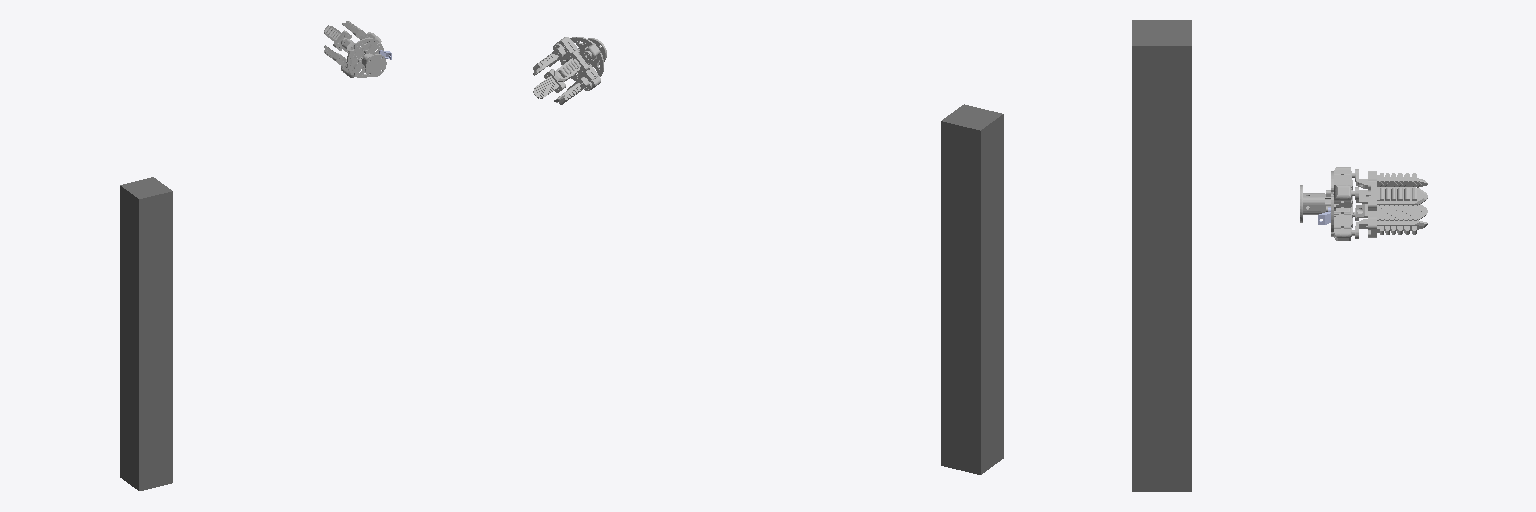
--- Facts derived from the render (not from the file) ---
The picture shows the robot from 3 angles, left to right: view 1: azimuth 30°, elevation 25°; view 2: azimuth 150°, elevation 25°; view 3: azimuth 270°, elevation 25°; orthographic projection.
Robot: ur5e_gripper — 33 links, 32 joints (14 revolute, 18 fixed); root link world; default pose: every joint at zero.
Visible links, largest first — view 1: mount, gripper_base_link; view 2: mount, gripper_base_link; view 3: mount, gripper_base_link, gripper_finger_3_link, gripper_finger_1_link, gripper_finger_2_link, gripper_finger_4_link.
Boxes of the visible links, bbox=[...] form: mount: bbox=[120, 177, 172, 490]; gripper_base_link: bbox=[342, 33, 386, 77]; mount: bbox=[941, 104, 1003, 474]; gripper_base_link: bbox=[556, 37, 606, 89]; mount: bbox=[1132, 20, 1191, 491]; gripper_base_link: bbox=[1300, 167, 1352, 240]; gripper_finger_3_link: bbox=[1377, 187, 1427, 205]; gripper_finger_1_link: bbox=[1377, 204, 1427, 220]; gripper_finger_2_link: bbox=[1377, 220, 1427, 234]; gripper_finger_4_link: bbox=[1377, 173, 1427, 187].
Bounding box of the posed robot: 0.9322 × 0.4977 × 0.9478 m (x, y, z).
10 mesh visuals loaded from 18 distinct referenced files (10 binary STL); not drawn: 8 (reference not matched to a file when rendering).

URDF robot description (ur5e_gripper):
<?xml version="1.0" ?>
<!-- =================================================================================== -->
<!-- |    This document was autogenerated by xacro from [local-path]/RoboSoft2023arm_ws/src/robotarm_description/urdf/ur5e_softgripper.urdf.xacro | -->
<!-- |    EDITING THIS FILE BY HAND IS NOT RECOMMENDED                                 | -->
<!-- =================================================================================== -->
<robot name="ur5e_gripper">
    <gazebo reference="mount">
        <mu1>0.2</mu1>
        <mu2>0.2</mu2>
        <material>Gazebo/Orange</material>
        <plugin name="gazebo_ros_control">
            <robotNamespace>/</robotNamespace>
        </plugin>
    </gazebo>
    <gazebo reference="gripper_base_link">
        <mu1>0.9</mu1>
        <mu2>0.9</mu2>
        <material>Gazebo/FlatBlack</material>
    </gazebo>
    <gazebo reference="gripper_camera_link">
        <mu1>0.9</mu1>
        <mu2>0.9</mu2>
        <material>Gazebo/FlatBlack</material>
    </gazebo>
    <gazebo reference="gripper_servo_1_joint">
        <mu1>0.9</mu1>
        <mu2>0.9</mu2>
        <material>Gazebo/Green</material>
    </gazebo>
    <gazebo reference="gripper_servo_2_joint">
        <mu1>0.9</mu1>
        <mu2>0.9</mu2>
        <material>Gazebo/Green</material>
    </gazebo>
    <gazebo reference="gripper_servo_3_joint">
        <mu1>0.9</mu1>
        <mu2>0.9</mu2>
        <material>Gazebo/Green</material>
    </gazebo>
    <gazebo reference="gripper_servo_4_joint">
        <mu1>0.9</mu1>
        <mu2>0.9</mu2>
        <material>Gazebo/Green</material>
    </gazebo>
    <material name="Gray">
        <color rgba="0.5 0.5 0.5 0" />
    </material>
    <material name="FlatBlack">
        <color rgba="0 0 0 1" />
    </material>
    <material name="Green">
        <color rgba="0.286274509803922 0.662745098039216 0.329411764705882 1" />
    </material>
    <link name="world" />
    <link name="mount">
        <inertial>
            <origin rpy="0 0 0" xyz="0 0 0.415" />
            <mass value="20" />
            <inertia ixx="200" ixy="200" ixz="200" iyy="200" iyz="200" izz="200" />
        </inertial>
        <visual>
            <origin rpy="0 0 0" xyz="0 0 0.415" />
            <geometry>
                <box size="0.1 0.1 0.83" />
            </geometry>
            <material name="Gray" />
        </visual>
        <collision>
            <origin rpy="0 0 0" xyz="0 0 0.415" />
            <geometry>
                <box size="0.1 0.1 0.83" />
            </geometry>
        </collision>
    </link>
    <joint name="world_joint" type="fixed">
        <parent link="world" />
        <child link="mount" />
        <origin rpy="0 0 0" xyz="0 0 0" />
    </joint>
    <!--
    Base UR robot series xacro macro.

    NOTE: this is NOT a URDF. It cannot directly be loaded by consumers
    expecting a flattened '.urdf' file. See the top-level '.xacro' for that
    (but note: that .xacro must still be processed by the xacro command).

    For use in '.launch' files: use one of the 'load_urX.launch' convenience
    launch files.

    This file models the base kinematic chain of a UR robot, which then gets
    parameterised by various configuration files to convert it into a UR3(e),
    UR5(e), UR10(e) or UR16e.

    NOTE: the default kinematic parameters (ie: link lengths, frame locations,
    offets, etc) do not correspond to any particular robot. They are defaults
    only. There WILL be non-zero offsets between the Forward Kinematics results
    in TF (ie: robot_state_publisher) and the values reported by the Teach
    Pendant.

    For accurate (and robot-specific) transforms, the 'kinematics_parameters_file'
    parameter MUST point to a .yaml file containing the appropriate values for
    the targetted robot.

    If using the UniversalRobots/Universal_Robots_ROS_Driver, follow the steps
    described in the readme of that repository to extract the kinematic
    calibration from the controller and generate the required .yaml file.

    Main author of the migration to yaml configs: Ludovic Delval.

    Contributors to previous versions (in no particular order):

     - Felix Messmer
     - Kelsey Hawkins
     - Wim Meeussen
     - Shaun Edwards
     - Nadia Hammoudeh Garcia
     - Dave Hershberger
     - G. vd. Hoorn
     - Philip Long
     - Dave Coleman
     - Miguel Prada
     - Mathias Luedtke
     - Marcel Schnirring
     - Felix von Drigalski
     - Felix Exner
     - Jimmy Da Silva
     - Ajit Krisshna N L
     - Muhammad Asif Rana
  -->
    <!--
    NOTE: the macro defined in this file is NOT part of the public API of this
          package. Users CANNOT rely on this file being available, or stored in
          this location. Nor can they rely on the existence of the macro.
  -->
    <transmission name="shoulder_pan_trans">
        <type>transmission_interface/SimpleTransmission</type>
        <joint name="shoulder_pan_joint">
            <hardwareInterface>hardware_interface/PositionJointInterface</hardwareInterface>
        </joint>
        <actuator name="shoulder_pan_motor">
            <mechanicalReduction>1</mechanicalReduction>
            <hardwareInterface>hardware_interface/PositionJointInterface</hardwareInterface>
        </actuator>
    </transmission>
    <transmission name="shoulder_lift_trans">
        <type>transmission_interface/SimpleTransmission</type>
        <joint name="shoulder_lift_joint">
            <hardwareInterface>hardware_interface/PositionJointInterface</hardwareInterface>
        </joint>
        <actuator name="shoulder_lift_motor">
            <mechanicalReduction>1</mechanicalReduction>
            <hardwareInterface>hardware_interface/PositionJointInterface</hardwareInterface>
        </actuator>
    </transmission>
    <transmission name="elbow_trans">
        <type>transmission_interface/SimpleTransmission</type>
        <joint name="elbow_joint">
            <hardwareInterface>hardware_interface/PositionJointInterface</hardwareInterface>
        </joint>
        <actuator name="elbow_motor">
            <mechanicalReduction>1</mechanicalReduction>
            <hardwareInterface>hardware_interface/PositionJointInterface</hardwareInterface>
        </actuator>
    </transmission>
    <transmission name="wrist_1_trans">
        <type>transmission_interface/SimpleTransmission</type>
        <joint name="wrist_1_joint">
            <hardwareInterface>hardware_interface/PositionJointInterface</hardwareInterface>
        </joint>
        <actuator name="wrist_1_motor">
            <mechanicalReduction>1</mechanicalReduction>
            <hardwareInterface>hardware_interface/PositionJointInterface</hardwareInterface>
        </actuator>
    </transmission>
    <transmission name="wrist_2_trans">
        <type>transmission_interface/SimpleTransmission</type>
        <joint name="wrist_2_joint">
            <hardwareInterface>hardware_interface/PositionJointInterface</hardwareInterface>
        </joint>
        <actuator name="wrist_2_motor">
            <mechanicalReduction>1</mechanicalReduction>
            <hardwareInterface>hardware_interface/PositionJointInterface</hardwareInterface>
        </actuator>
    </transmission>
    <transmission name="wrist_3_trans">
        <type>transmission_interface/SimpleTransmission</type>
        <joint name="wrist_3_joint">
            <hardwareInterface>hardware_interface/PositionJointInterface</hardwareInterface>
        </joint>
        <actuator name="wrist_3_motor">
            <mechanicalReduction>1</mechanicalReduction>
            <hardwareInterface>hardware_interface/PositionJointInterface</hardwareInterface>
        </actuator>
    </transmission>
    <!-- links: main serial chain -->
    <link name="base_link" />
    <link name="base_link_inertia">
        <visual>
            <origin rpy="0 0 3.141592653589793" xyz="0 0 0" />
            <geometry>
                <mesh filename="package://ur_description/meshes/ur5e/visual/base.dae" />
            </geometry>
            <material name="LightGrey">
                <color rgba="0.7 0.7 0.7 1.0" />
            </material>
        </visual>
        <collision>
            <origin rpy="0 0 3.141592653589793" xyz="0 0 0" />
            <geometry>
                <mesh filename="package://ur_description/meshes/ur5e/collision/base.stl" />
            </geometry>
        </collision>
        <inertial>
            <mass value="4.0" />
            <origin rpy="0 0 0" xyz="0 0 0" />
            <inertia ixx="0.00443333156" ixy="0.0" ixz="0.0" iyy="0.00443333156" iyz="0.0" izz="0.0072" />
        </inertial>
    </link>
    <link name="shoulder_link">
        <visual>
            <origin rpy="0 0 3.141592653589793" xyz="0 0 0" />
            <geometry>
                <mesh filename="package://ur_description/meshes/ur5e/visual/shoulder.dae" />
            </geometry>
            <material name="LightGrey">
                <color rgba="0.7 0.7 0.7 1.0" />
            </material>
        </visual>
        <collision>
            <origin rpy="0 0 3.141592653589793" xyz="0 0 0" />
            <geometry>
                <mesh filename="package://ur_description/meshes/ur5e/collision/shoulder.stl" />
            </geometry>
        </collision>
        <inertial>
            <mass value="3.7" />
            <origin rpy="0 0 0" xyz="0 0 0" />
            <inertia ixx="0.010267495893" ixy="0.0" ixz="0.0" iyy="0.010267495893" iyz="0.0" izz="0.00666" />
        </inertial>
    </link>
    <link name="upper_arm_link">
        <visual>
            <origin rpy="1.5707963267948966 0 -1.5707963267948966" xyz="0 0 0.138" />
            <geometry>
                <mesh filename="package://ur_description/meshes/ur5e/visual/upperarm.dae" />
            </geometry>
            <material name="LightGrey">
                <color rgba="0.7 0.7 0.7 1.0" />
            </material>
        </visual>
        <collision>
            <origin rpy="1.5707963267948966 0 -1.5707963267948966" xyz="0 0 0.138" />
            <geometry>
                <mesh filename="package://ur_description/meshes/ur5e/collision/upperarm.stl" />
            </geometry>
        </collision>
        <inertial>
            <mass value="8.393" />
            <origin rpy="0 1.5707963267948966 0" xyz="-0.2125 0.0 0.138" />
            <inertia ixx="0.1338857818623325" ixy="0.0" ixz="0.0" iyy="0.1338857818623325" iyz="0.0" izz="0.0151074" />
        </inertial>
    </link>
    <link name="forearm_link">
        <visual>
            <origin rpy="1.5707963267948966 0 -1.5707963267948966" xyz="0 0 0.007" />
            <geometry>
                <mesh filename="package://ur_description/meshes/ur5e/visual/forearm.dae" />
            </geometry>
            <material name="LightGrey">
                <color rgba="0.7 0.7 0.7 1.0" />
            </material>
        </visual>
        <collision>
            <origin rpy="1.5707963267948966 0 -1.5707963267948966" xyz="0 0 0.007" />
            <geometry>
                <mesh filename="package://ur_description/meshes/ur5e/collision/forearm.stl" />
            </geometry>
        </collision>
        <inertial>
            <mass value="2.275" />
            <origin rpy="0 1.5707963267948966 0" xyz="-0.1961 0.0 0.007" />
            <inertia ixx="0.031209355099586295" ixy="0.0" ixz="0.0" iyy="0.031209355099586295" iyz="0.0" izz="0.004095" />
        </inertial>
    </link>
    <link name="wrist_1_link">
        <visual>
            <!-- TODO: Move this to a parameter -->
            <origin rpy="1.5707963267948966 0 0" xyz="0 0 -0.127" />
            <geometry>
                <mesh filename="package://ur_description/meshes/ur5e/visual/wrist1.dae" />
            </geometry>
            <material name="LightGrey">
                <color rgba="0.7 0.7 0.7 1.0" />
            </material>
        </visual>
        <collision>
            <origin rpy="1.5707963267948966 0 0" xyz="0 0 -0.127" />
            <geometry>
                <mesh filename="package://ur_description/meshes/ur5e/collision/wrist1.stl" />
            </geometry>
        </collision>
        <inertial>
            <mass value="1.219" />
            <origin rpy="0 0 0" xyz="0 0 0" />
            <inertia ixx="0.0025598989760400002" ixy="0.0" ixz="0.0" iyy="0.0025598989760400002" iyz="0.0" izz="0.0021942" />
        </inertial>
    </link>
    <link name="wrist_2_link">
        <visual>
            <origin rpy="0 0 0" xyz="0 0 -0.0997" />
            <geometry>
                <mesh filename="package://ur_description/meshes/ur5e/visual/wrist2.dae" />
            </geometry>
            <material name="LightGrey">
                <color rgba="0.7 0.7 0.7 1.0" />
            </material>
        </visual>
        <collision>
            <origin rpy="0 0 0" xyz="0 0 -0.0997" />
            <geometry>
                <mesh filename="package://ur_description/meshes/ur5e/collision/wrist2.stl" />
            </geometry>
        </collision>
        <inertial>
            <mass value="1.219" />
            <origin rpy="0 0 0" xyz="0 0 0" />
            <inertia ixx="0.0025598989760400002" ixy="0.0" ixz="0.0" iyy="0.0025598989760400002" iyz="0.0" izz="0.0021942" />
        </inertial>
    </link>
    <link name="wrist_3_link">
        <visual>
            <origin rpy="1.5707963267948966 0 0" xyz="0 0 -0.0989" />
            <geometry>
                <mesh filename="package://ur_description/meshes/ur5e/visual/wrist3.dae" />
            </geometry>
            <material name="LightGrey">
                <color rgba="0.7 0.7 0.7 1.0" />
            </material>
        </visual>
        <collision>
            <origin rpy="1.5707963267948966 0 0" xyz="0 0 -0.0989" />
            <geometry>
                <mesh filename="package://ur_description/meshes/ur5e/collision/wrist3.stl" />
            </geometry>
        </collision>
        <inertial>
            <mass value="0.1879" />
            <origin rpy="0 0 0" xyz="0.0 0.0 -0.0229" />
            <inertia ixx="9.890410052167731e-05" ixy="0.0" ixz="0.0" iyy="9.890410052167731e-05" iyz="0.0" izz="0.0001321171875" />
        </inertial>
    </link>
    <!-- joints: main serial chain -->
    <joint name="base_link-base_link_inertia" type="fixed">
        <parent link="base_link" />
        <child link="base_link_inertia" />
        <!-- 'base_link' is REP-103 aligned (so X+ forward), while the internal
           frames of the robot/controller have X+ pointing backwards.
           Use the joint between 'base_link' and 'base_link_inertia' (a dummy
           link/frame) to introduce the necessary rotation over Z (of pi rad).
      -->
        <origin rpy="0 0 3.141592653589793" xyz="0 0 0" />
    </joint>
    <joint name="shoulder_pan_joint" type="revolute">
        <parent link="base_link_inertia" />
        <child link="shoulder_link" />
        <origin rpy="0 0 0" xyz="0 0 0.1625" />
        <axis xyz="0 0 1" />
        <limit effort="150.0" lower="-6.283185307179586" upper="6.283185307179586" velocity="3.141592653589793" />
        <dynamics damping="0" friction="0" />
    </joint>
    <joint name="shoulder_lift_joint" type="revolute">
        <parent link="shoulder_link" />
        <child link="upper_arm_link" />
        <origin rpy="1.570796327 0 0" xyz="0 0 0" />
        <axis xyz="0 0 1" />
        <limit effort="150.0" lower="-6.283185307179586" upper="6.283185307179586" velocity="3.141592653589793" />
        <dynamics damping="0" friction="0" />
    </joint>
    <joint name="elbow_joint" type="revolute">
        <parent link="upper_arm_link" />
        <child link="forearm_link" />
        <origin rpy="0 0 0" xyz="-0.425 0 0" />
        <axis xyz="0 0 1" />
        <limit effort="150.0" lower="-3.141592653589793" upper="3.141592653589793" velocity="3.141592653589793" />
        <dynamics damping="0" friction="0" />
    </joint>
    <joint name="wrist_1_joint" type="revolute">
        <parent link="forearm_link" />
        <child link="wrist_1_link" />
        <origin rpy="0 0 0" xyz="-0.3922 0 0.1333" />
        <axis xyz="0 0 1" />
        <limit effort="28.0" lower="-6.283185307179586" upper="6.283185307179586" velocity="3.141592653589793" />
        <dynamics damping="0" friction="0" />
    </joint>
    <joint name="wrist_2_joint" type="revolute">
        <parent link="wrist_1_link" />
        <child link="wrist_2_link" />
        <origin rpy="1.570796327 0 0" xyz="0 -0.0997 -2.044881182297852e-11" />
        <axis xyz="0 0 1" />
        <limit effort="28.0" lower="-6.283185307179586" upper="6.283185307179586" velocity="3.141592653589793" />
        <dynamics damping="0" friction="0" />
    </joint>
    <joint name="wrist_3_joint" type="revolute">
        <parent link="wrist_2_link" />
        <child link="wrist_3_link" />
        <origin rpy="1.570796326589793 3.141592653589793 3.141592653589793" xyz="0 0.0996 -2.042830148012698e-11" />
        <axis xyz="0 0 1" />
        <limit effort="28.0" lower="-6.283185307179586" upper="6.283185307179586" velocity="3.141592653589793" />
        <dynamics damping="0" friction="0" />
    </joint>
    <!-- ROS-Industrial 'base' frame: base_link to UR 'Base' Coordinates transform -->
    <link name="base" />
    <joint name="base_link-base_fixed_joint" type="fixed">
        <!-- Note the rotation over Z of pi radians: as base_link is REP-103
           aligned (ie: has X+ forward, Y+ left and Z+ up), this is needed
           to correctly align 'base' with the 'Base' coordinate system of
           the UR controller.
      -->
        <origin rpy="0 0 3.141592653589793" xyz="0 0 0" />
        <parent link="base_link" />
        <child link="base" />
    </joint>
    <!-- ROS-Industrial 'flange' frame: attachment point for EEF models -->
    <link name="flange" />
    <joint name="wrist_3-flange" type="fixed">
        <parent link="wrist_3_link" />
        <child link="flange" />
        <origin rpy="0 -1.5707963267948966 -1.5707963267948966" xyz="0 0 0" />
    </joint>
    <!-- ROS-Industrial 'tool0' frame: all-zeros tool frame -->
    <link name="tool0" />
    <joint name="flange-tool0" type="fixed">
        <!-- default toolframe: X+ left, Y+ up, Z+ front -->
        <origin rpy="1.5707963267948966 0 1.5707963267948966" xyz="0 0 0" />
        <parent link="flange" />
        <child link="tool0" />
    </joint>
    <transmission name="finger_1_trans">
        <type>transmission_interface/SimpleTransmission</type>
        <joint name="gripper_finger_1_joint">
            <hardwareInterface>hardware_interface/PositionJointInterface</hardwareInterface>
        </joint>
        <actuator name="finger_1_motor">
            <mechanicalReduction>1</mechanicalReduction>
            <hardwareInterface>hardware_interface/EffortJointInterface</hardwareInterface>
        </actuator>
    </transmission>
    <transmission name="finger_2_trans">
        <type>transmission_interface/SimpleTransmission</type>
        <joint name="gripper_finger_2_joint">
            <hardwareInterface>hardware_interface/PositionJointInterface</hardwareInterface>
        </joint>
        <actuator name="finger_2_motor">
            <mechanicalReduction>1</mechanicalReduction>
            <hardwareInterface>hardware_interface/EffortJointInterface</hardwareInterface>
        </actuator>
    </transmission>
    <transmission name="finger_3_trans">
        <type>transmission_interface/SimpleTransmission</type>
        <joint name="gripper_finger_3_joint">
            <hardwareInterface>hardware_interface/PositionJointInterface</hardwareInterface>
        </joint>
        <actuator name="finger_3_motor">
            <mechanicalReduction>1</mechanicalReduction>
            <hardwareInterface>hardware_interface/EffortJointInterface</hardwareInterface>
        </actuator>
    </transmission>
    <transmission name="finger_4_trans">
        <type>transmission_interface/SimpleTransmission</type>
        <joint name="gripper_finger_4_joint">
            <hardwareInterface>hardware_interface/PositionJointInterface</hardwareInterface>
        </joint>
        <actuator name="finger_4_motor">
            <mechanicalReduction>1</mechanicalReduction>
            <hardwareInterface>hardware_interface/EffortJointInterface</hardwareInterface>
        </actuator>
    </transmission>
    <transmission name="servo_1_trans">
        <type>transmission_interface/SimpleTransmission</type>
        <joint name="gripper_servo_1_joint">
            <hardwareInterface>hardware_interface/PositionJointInterface</hardwareInterface>
        </joint>
        <actuator name="servo_1_motor">
            <mechanicalReduction>1</mechanicalReduction>
            <hardwareInterface>hardware_interface/EffortJointInterface</hardwareInterface>
        </actuator>
    </transmission>
    <transmission name="servo_2_trans">
        <type>transmission_interface/SimpleTransmission</type>
        <joint name="gripper_servo_2_joint">
            <hardwareInterface>hardware_interface/PositionJointInterface</hardwareInterface>
        </joint>
        <actuator name="servo_2_motor">
            <mechanicalReduction>1</mechanicalReduction>
            <hardwareInterface>hardware_interface/EffortJointInterface</hardwareInterface>
        </actuator>
    </transmission>
    <transmission name="servo_3_trans">
        <type>transmission_interface/SimpleTransmission</type>
        <joint name="gripper_servo_3_joint">
            <hardwareInterface>hardware_interface/PositionJointInterface</hardwareInterface>
        </joint>
        <actuator name="servo_3_motor">
            <mechanicalReduction>1</mechanicalReduction>
            <hardwareInterface>hardware_interface/EffortJointInterface</hardwareInterface>
        </actuator>
    </transmission>
    <transmission name="servo_4_trans">
        <type>transmission_interface/SimpleTransmission</type>
        <joint name="gripper_servo_4_joint">
            <hardwareInterface>hardware_interface/PositionJointInterface</hardwareInterface>
        </joint>
        <actuator name="servo_4_motor">
            <mechanicalReduction>1</mechanicalReduction>
            <hardwareInterface>hardware_interface/EffortJointInterface</hardwareInterface>
        </actuator>
    </transmission>
    <link name="gripper_base_link">
        <inertial>
            <origin rpy="0 0 0" xyz="-7.81929243576229E-11 1.42663880708938E-10 -0.059288971276487" />
            <mass value="0.229671038998237" />
            <inertia ixx="7.28849227242487E-05" ixy="-2.33088076706897E-09" ixz="-6.41425361232449E-15" iyy="7.28849227242487E-05" iyz="-2.61814273580661E-14" izz="9.68124786108097E-05" />
        </inertial>
        <visual>
            <origin rpy="0 0 0" xyz="0 0 0" />
            <geometry>
                <mesh filename="package://soft_gripper_v2/meshes/gripper_base_link.STL" />
            </geometry>
            <material name="">
                <color rgba="0.752941176470588 0.752941176470588 0.752941176470588 1" />
            </material>
        </visual>
        <collision>
            <origin rpy="0 0 0" xyz="0 0 0" />
            <geometry>
                <mesh filename="package://soft_gripper_v2/meshes/gripper_base_link.STL" />
            </geometry>
        </collision>
    </link>
    <link name="gripper_servo_1_link">
        <inertial>
            <origin rpy="0 0 0" xyz="0.00967240300472853 3.20435144965381E-06 -0.0274810442045975" />
            <mass value="0.0188211254499163" />
            <inertia ixx="4.14273316213884E-06" ixy="-3.31927276910217E-10" ixz="2.35698499176054E-07" iyy="1.66522474223198E-06" iyz="-2.13913665202975E-10" izz="4.32127182189738E-06" />
        </inertial>
        <visual>
            <origin rpy="0 0 0" xyz="0 0 0" />
            <geometry>
                <mesh filename="package://soft_gripper_v2/meshes/gripper_servo_1_link.STL" />
            </geometry>
            <material name="">
                <color rgba="0.752941176470588 0.752941176470588 0.752941176470588 1" />
            </material>
        </visual>
        <collision>
            <origin rpy="0 0 0" xyz="0 0 0" />
            <geometry>
                <mesh filename="package://soft_gripper_v2/meshes/gripper_servo_1_link.STL" />
            </geometry>
        </collision>
    </link>
    <joint name="gripper_servo_1_joint" type="revolute">
        <origin rpy="0 0 0.785398163397435" xyz="-0.0364159992311082 -0.0364159992311067 -0.08805" />
        <parent link="gripper_base_link" />
        <child link="gripper_servo_1_link" />
        <axis xyz="0 0 1" />
        <limit effort="0" lower="0" upper="0" velocity="0" />
    </joint>
    <link name="gripper_finger_1_link">
        <inertial>
            <origin rpy="0 0 0" xyz="0.00453251169208729 -0.000200000496332495 -0.0372287980137329" />
            <mass value="0.0223253175331126" />
            <inertia ixx="1.45473568126403E-05" ixy="4.2102213523924E-14" ixz="1.00874708036447E-08" iyy="1.31879304063723E-05" iyz="-4.95242595284031E-13" izz="1.66757991632934E-06" />
        </inertial>
        <visual>
            <origin rpy="0 0 0" xyz="0 0 0" />
            <geometry>
                <mesh filename="package://soft_gripper_v2/meshes/gripper_finger_1_link.STL" />
            </geometry>
            <material name="">
                <color rgba="0.752941176470588 0.752941176470588 0.752941176470588 1" />
            </material>
        </visual>
        <collision>
            <origin rpy="0 0 0" xyz="0 0 0" />
            <geometry>
                <mesh filename="package://soft_gripper_v2/meshes/gripper_finger_1_link.STL" />
            </geometry>
        </collision>
    </link>
    <joint name="gripper_finger_1_joint" type="revolute">
        <origin rpy="0 0 0" xyz="0.00630000000000014 0 -0.0388" />
        <parent link="gripper_servo_1_link" />
        <child link="gripper_finger_1_link" />
        <axis xyz="0 -1 0" />
        <limit effort="0" lower="0" upper="0" velocity="0" />
    </joint>
    <link name="gripper_servo_2_link">
        <inertial>
            <origin rpy="0 0 0" xyz="0.00967240300472846 3.20435144965381E-06 -0.0274810442045975" />
            <mass value="0.0188211254499163" />
            <inertia ixx="4.14273316213885E-06" ixy="-3.31927276911382E-10" ixz="2.35698499176054E-07" iyy="1.66522474223198E-06" iyz="-2.13913665204756E-10" izz="4.32127182189738E-06" />
        </inertial>
        <visual>
            <origin rpy="0 0 0" xyz="0 0 0" />
            <geometry>
                <mesh filename="package://soft_gripper_v2/meshes/gripper_servo_2_link.STL" />
            </geometry>
            <material name="">
                <color rgba="0.752941176470588 0.752941176470588 0.752941176470588 1" />
            </material>
        </visual>
        <collision>
            <origin rpy="0 0 0" xyz="0 0 0" />
            <geometry>
                <mesh filename="package://soft_gripper_v2/meshes/gripper_servo_2_link.STL" />
            </geometry>
        </collision>
    </link>
    <joint name="gripper_servo_2_joint" type="revolute">
        <origin rpy="0 0 2.35619449019233" xyz="0.0364159992311063 -0.0364159992311076 -0.08805" />
        <parent link="gripper_base_link" />
        <child link="gripper_servo_2_link" />
        <axis xyz="0 0 1" />
        <limit effort="0" lower="0" upper="0" velocity="0" />
    </joint>
    <link name="gripper_finger_2_link">
        <inertial>
            <origin rpy="0 0 0" xyz="0.00453251169208686 0.00019999950366744 -0.037228798013733" />
            <mass value="0.0223253175331126" />
            <inertia ixx="1.45473568126403E-05" ixy="4.21022126768911E-14" ixz="1.00874708034999E-08" iyy="1.31879304063723E-05" iyz="-4.95242597291067E-13" izz="1.66757991632934E-06" />
        </inertial>
        <visual>
            <origin rpy="0 0 0" xyz="0 0 0" />
            <geometry>
                <mesh filename="package://soft_gripper_v2/meshes/gripper_finger_2_link.STL" />
            </geometry>
            <material name="">
                <color rgba="0.752941176470588 0.752941176470588 0.752941176470588 1" />
            </material>
        </visual>
        <collision>
            <origin rpy="0 0 0" xyz="0 0 0" />
            <geometry>
                <mesh filename="package://soft_gripper_v2/meshes/gripper_finger_2_link.STL" />
            </geometry>
        </collision>
    </link>
    <joint name="gripper_finger_2_joint" type="revolute">
        <origin rpy="0 0 0" xyz="0.00629999999999999 0 -0.0388" />
        <parent link="gripper_servo_2_link" />
        <child link="gripper_finger_2_link" />
        <axis xyz="0 -1 0" />
        <limit effort="0" lower="0" upper="0" velocity="0" />
    </joint>
    <link name="gripper_servo_3_link">
        <inertial>
            <origin rpy="0 0 0" xyz="0.00967240300472846 3.20435144958442E-06 -0.0274810442045975" />
            <mass value="0.0188211254499163" />
            <inertia ixx="4.14273316213884E-06" ixy="-3.31927276911382E-10" ixz="2.35698499176054E-07" iyy="1.66522474223198E-06" iyz="-2.13913665206273E-10" izz="4.32127182189737E-06" />
        </inertial>
        <visual>
            <origin rpy="0 0 0" xyz="0 0 0" />
            <geometry>
                <mesh filename="package://soft_gripper_v2/meshes/gripper_servo_3_link.STL" />
            </geometry>
            <material name="">
                <color rgba="0.752941176470588 0.752941176470588 0.752941176470588 1" />
            </material>
        </visual>
        <collision>
            <origin rpy="0 0 0" xyz="0 0 0" />
            <geometry>
                <mesh filename="package://soft_gripper_v2/meshes/gripper_servo_3_link.STL" />
            </geometry>
        </collision>
    </link>
    <joint name="gripper_servo_3_joint" type="revolute">
        <origin rpy="0 0 -2.35619449019235" xyz="0.0364159992311069 0.036415999231107 -0.08805" />
        <parent link="gripper_base_link" />
        <child link="gripper_servo_3_link" />
        <axis xyz="0 0 -1" />
        <limit effort="0" lower="0" upper="0" velocity="0" />
    </joint>
    <link name="gripper_finger_3_link">
        <inertial>
            <origin rpy="0 0 0" xyz="0.00453251169208677 0.000199999503667447 -0.0372287980137329" />
            <mass value="0.0223253175331126" />
            <inertia ixx="1.45473568126403E-05" ixy="4.21022122533746E-14" ixz="1.00874708034703E-08" iyy="1.31879304063723E-05" iyz="-4.95242597341267E-13" izz="1.66757991632934E-06" />
        </inertial>
        <visual>
            <origin rpy="0 0 0" xyz="0 0 0" />
            <geometry>
                <mesh filename="package://soft_gripper_v2/meshes/gripper_finger_3_link.STL" />
            </geometry>
            <material name="">
                <color rgba="0.752941176470588 0.752941176470588 0.752941176470588 1" />
            </material>
        </visual>
        <collision>
            <origin rpy="0 0 0" xyz="0 0 0" />
            <geometry>
                <mesh filename="package://soft_gripper_v2/meshes/gripper_finger_3_link.STL" />
            </geometry>
        </collision>
    </link>
    <joint name="gripper_finger_3_joint" type="revolute">
        <origin rpy="0 0 0" xyz="0.00630000000000001 0 -0.0388" />
        <parent link="gripper_servo_3_link" />
        <child link="gripper_finger_3_link" />
        <axis xyz="0 -1 0" />
        <limit effort="0" lower="0" upper="0" velocity="0" />
    </joint>
    <link name="gripper_servo_4_link">
        <inertial>
            <origin rpy="0 0 0" xyz="0.00967240300472855 3.20435144963993E-06 -0.0274810442045975" />
            <mass value="0.0188211254499163" />
            <inertia ixx="4.14273316213884E-06" ixy="-3.31927276911329E-10" ixz="2.35698499176054E-07" iyy="1.66522474223198E-06" iyz="-2.1391366520675E-10" izz="4.32127182189738E-06" />
        </inertial>
        <visual>
            <origin rpy="0 0 0" xyz="0 0 0" />
            <geometry>
                <mesh filename="package://soft_gripper_v2/meshes/gripper_servo_4_link.STL" />
            </geometry>
            <material name="">
                <color rgba="0.752941176470588 0.752941176470588 0.752941176470588 1" />
            </material>
        </visual>
        <collision>
            <origin rpy="0 0 0" xyz="0 0 0" />
            <geometry>
                <mesh filename="package://soft_gripper_v2/meshes/gripper_servo_4_link.STL" />
            </geometry>
        </collision>
    </link>
    <joint name="gripper_servo_4_joint" type="revolute">
        <origin rpy="0 0 -0.785398163397466" xyz="-0.0364159992311072 0.0364159992311078 -0.08805" />
        <parent link="gripper_base_link" />
        <child link="gripper_servo_4_link" />
        <axis xyz="0 0 1" />
        <limit effort="0" lower="0" upper="0" velocity="0" />
    </joint>
    <link name="gripper_finger_4_link">
        <inertial>
            <origin rpy="0 0 0" xyz="0.00453251169208679 0.000199999503667489 -0.037228798013733" />
            <mass value="0.0223253175331126" />
            <inertia ixx="1.45473568126403E-05" ixy="4.21022105593087E-14" ixz="1.00874708034764E-08" iyy="1.31879304063723E-05" iyz="-4.9524259664267E-13" izz="1.66757991632933E-06" />
        </inertial>
        <visual>
            <origin rpy="0 0 0" xyz="0 0 0" />
            <geometry>
                <mesh filename="package://soft_gripper_v2/meshes/gripper_finger_4_link.STL" />
            </geometry>
            <material name="">
                <color rgba="0.752941176470588 0.752941176470588 0.752941176470588 1" />
            </material>
        </visual>
        <collision>
            <origin rpy="0 0 0" xyz="0 0 0" />
            <geometry>
                <mesh filename="package://soft_gripper_v2/meshes/gripper_finger_4_link.STL" />
            </geometry>
        </collision>
    </link>
    <joint name="gripper_finger_4_joint" type="revolute">
        <origin rpy="0 0 0" xyz="0.00630000000000011 0 -0.0388" />
        <parent link="gripper_servo_4_link" />
        <child link="gripper_finger_4_link" />
        <axis xyz="0 -1 0" />
        <limit effort="0" lower="0" upper="0" velocity="0" />
    </joint>
    <link name="gripper_camera_link">
        <inertial>
            <origin rpy="0 0 0" xyz="-0.0117539844149932 3.7470027081099E-16 0.0100941266466147" />
            <mass value="0.00322049613280317" />
            <inertia ixx="2.46921285395876E-07" ixy="-2.3409273591071E-23" ixz="1.08490410651177E-07" iyy="2.9520434102199E-07" iyz="1.09034720910385E-22" izz="3.31555149962979E-07" />
        </inertial>
        <visual>
            <origin rpy="0 0 0" xyz="0 0 0" />
            <geometry>
                <mesh filename="package://soft_gripper_v2/meshes/gripper_camera_link.STL" />
            </geometry>
            <material name="">
                <color rgba="0.792156862745098 0.819607843137255 0.933333333333333 1" />
            </material>
        </visual>
        <collision>
            <origin rpy="0 0 0" xyz="0 0 0" />
            <geometry>
                <mesh filename="package://soft_gripper_v2/meshes/gripper_camera_link.STL" />
            </geometry>
        </collision>
    </link>
    <joint name="gripper_camera_joint" type="fixed">
        <origin rpy="3.1416 0 0" xyz="0.065 0 -0.035475" />
        <parent link="gripper_base_link" />
        <child link="gripper_camera_link" />
        <axis xyz="0 0 0" />
    </joint>
    <gazebo>
        <plugin filename="libgazebo_ros_control.so" name="ros_control">
            <!-- <robotNamespace>/myworkcell</robotNamespace> -->
        </plugin>
    </gazebo>
    <joint name="base_joint" type="fixed">
        <parent link="mount" />
        <child link="base_link" />
        <origin rpy="0.0 0.0 0.0" xyz="0 0 0.83" />
    </joint>
    <joint name="gripper_joint" type="fixed">
        <parent link="tool0" />
        <child link="gripper_base_link" />
        <origin rpy="0 3.141592653589793 0" xyz="0 0 0" />
    </joint>
    <material name="aluminum">
        <color rgba="0.5 0.5 0.5 1" />
    </material>
    <material name="plastic">
        <color rgba="0.1 0.1 0.1 1" />
    </material>
    <!-- camera body, with origin at bottom screw mount -->
    <joint name="camera_joint" type="fixed">
        <origin rpy="3.141592653589793 -1.5707963267948966 0" xyz="0 0 0" />
        <parent link="gripper_camera_link" />
        <child link="camera_bottom_screw_frame" />
    </joint>
    <link name="camera_bottom_screw_frame" />
    <joint name="camera_link_joint" type="fixed">
        <origin rpy="0 0 0" xyz="0 0.02 0.0115" />
        <parent link="camera_bottom_screw_frame" />
        <child link="camera_link" />
    </joint>
    <link name="camera_link">
        <visual>
            <origin rpy="1.5707963267948966 0 1.5707963267948966" xyz="0.00987 -0.02 0" />
            <geometry>
                <mesh filename="package://realsense2_description/meshes/d415.stl" />
            </geometry>
            <material name="aluminum" />
        </visual>
        <collision>
            <origin rpy="0 0 0" xyz="0 -0.02 0" />
            <geometry>
                <box size="0.02005 0.099 0.023" />
            </geometry>
        </collision>
        <inertial>
            <mass value="0.072" />
            <!-- The following are not reliable values, and should not be used for modeling -->
            <origin xyz="0 0 0" rpy="0 0 0" />
            <inertia ixx="0.003881243" ixy="0.0" ixz="0.0" iyy="0.000498940" iyz="0.0" izz="0.003879257" />
        </inertial>
    </link>
    <!-- camera depth joints and links -->
    <joint name="camera_depth_joint" type="fixed">
        <origin rpy="0 0 0" xyz="0 0 0" />
        <parent link="camera_link" />
        <child link="camera_depth_frame" />
    </joint>
    <link name="camera_depth_frame" />
    <joint name="camera_depth_optical_joint" type="fixed">
        <origin rpy="-1.5707963267948966 0 -1.5707963267948966" xyz="0 0 0" />
        <parent link="camera_depth_frame" />
        <child link="camera_depth_optical_frame" />
    </joint>
    <link name="camera_depth_optical_frame" />
    <!-- camera left IR joints and links -->
    <joint name="camera_infra1_joint" type="fixed">
        <origin rpy="0 0 0" xyz="0 0.0 0" />
        <parent link="camera_link" />
        <child link="camera_infra1_frame" />
    </joint>
    <link name="camera_infra1_frame" />
    <joint name="camera_infra1_optical_joint" type="fixed">
        <origin rpy="-1.5707963267948966 0 -1.5707963267948966" xyz="0 0 0" />
        <parent link="camera_infra1_frame" />
        <child link="camera_infra1_optical_frame" />
    </joint>
    <link name="camera_infra1_optical_frame" />
    <!-- camera right IR joints and links -->
    <joint name="camera_infra2_joint" type="fixed">
        <origin rpy="0 0 0" xyz="0 -0.055 0" />
        <parent link="camera_link" />
        <child link="camera_infra2_frame" />
    </joint>
    <link name="camera_infra2_frame" />
    <joint name="camera_infra2_optical_joint" type="fixed">
        <origin rpy="-1.5707963267948966 0 -1.5707963267948966" xyz="0 0 0" />
        <parent link="camera_infra2_frame" />
        <child link="camera_infra2_optical_frame" />
    </joint>
    <link name="camera_infra2_optical_frame" />
    <!-- camera color joints and links -->
    <joint name="camera_color_joint" type="fixed">
        <origin rpy="0 0 0" xyz="0 0.015 0" />
        <parent link="camera_link" />
        <child link="camera_color_frame" />
    </joint>
    <link name="camera_color_frame" />
    <joint name="camera_color_optical_joint" type="fixed">
        <origin rpy="-1.5707963267948966 0 -1.5707963267948966" xyz="0 0 0" />
        <parent link="camera_color_frame" />
        <child link="camera_color_optical_frame" />
    </joint>
    <link name="camera_color_optical_frame" />
    <gazebo reference="camera_link">
        <self_collide>0</self_collide>
        <enable_wind>0</enable_wind>
        <kinematic>0</kinematic>
        <gravity>1</gravity>
        <!--<mu>1</mu>-->
        <mu2>1</mu2>
        <fdir1>0 0 0</fdir1>
        <!--<slip1>0</slip1>
			<slip2>0</slip2>-->
        <kp>1e+13</kp>
        <kd>1</kd>
        <!--<max_vel>0.01</max_vel>
			<min_depth>0</min_depth>-->
        <sensor name="cameracolor" type="camera">
            <camera name="camera">
                <horizontal_fov>1.2042771838760873</horizontal_fov>
                <image>
                    <width>640</width>
                    <height>480</height>
                    <format>RGB_INT8</format>
                </image>
                <clip>
                    <near>0.1</near>
                    <far>100</far>
                </clip>
                <noise>
                    <type>gaussian</type>
                    <mean>0.0</mean>
                    <stddev>0.007</stddev>
                </noise>
            </camera>
            <always_on>1</always_on>
            <update_rate>30</update_rate>
            <visualize>0</visualize>
        </sensor>
        <sensor name="cameraired1" type="camera">
            <camera name="camera">
                <horizontal_fov>1.1344640137963142</horizontal_fov>
                <image>
                    <width>640</width>
                    <height>480</height>
                    <format>L_INT8</format>
                </image>
                <clip>
                    <near>0.1</near>
                    <far>100</far>
                </clip>
                <noise>
                    <type>gaussian</type>
                    <mean>0.0</mean>
                    <stddev>0.05</stddev>
                </noise>
            </camera>
            <always_on>1</always_on>
            <update_rate>90</update_rate>
            <visualize>0</visualize>
        </sensor>
        <sensor name="cameraired2" type="camera">
            <camera name="camera">
                <horizontal_fov>1.1344640137963142</horizontal_fov>
                <image>
                    <width>640</width>
                    <height>480</height>
                    <format>L_INT8</format>
                </image>
                <clip>
                    <near>0.1</near>
                    <far>100</far>
                </clip>
                <noise>
                    <type>gaussian</type>
                    <mean>0.0</mean>
                    <stddev>0.05</stddev>
                </noise>
            </camera>
            <always_on>1</always_on>
            <update_rate>90</update_rate>
            <visualize>0</visualize>
        </sensor>
        <sensor name="cameradepth" type="depth">
            <camera name="camera">
                <horizontal_fov>1.1344640137963142</horizontal_fov>
                <image>
                    <width>640</width>
                    <height>480</height>
                </image>
                <clip>
                    <near>0.1</near>
                    <far>100</far>
                </clip>
                <noise>
                    <type>gaussian</type>
                    <mean>0.0</mean>
                    <stddev>0.100</stddev>
                </noise>
            </camera>
            <always_on>1</always_on>
            <update_rate>90</update_rate>
            <visualize>0</visualize>
        </sensor>
    </gazebo>
    <gazebo>
        <plugin filename="librealsense_gazebo_plugin.so" name="camera">
            <prefix>camera</prefix>
            <depthUpdateRate>30.0</depthUpdateRate>
            <colorUpdateRate>30.0</colorUpdateRate>
            <infraredUpdateRate>30.0</infraredUpdateRate>
            <depthTopicName>depth/image_raw</depthTopicName>
            <depthCameraInfoTopicName>depth/camera_info</depthCameraInfoTopicName>
            <colorTopicName>color/image_raw</colorTopicName>
            <colorCameraInfoTopicName>color/camera_info</colorCameraInfoTopicName>
            <infrared1TopicName>infra1/image_raw</infrared1TopicName>
            <infrared1CameraInfoTopicName>infra1/camera_info</infrared1CameraInfoTopicName>
            <infrared2TopicName>infra2/image_raw</infrared2TopicName>
            <infrared2CameraInfoTopicName>infra2/camera_info</infrared2CameraInfoTopicName>
            <colorOpticalframeName>camera_color_optical_frame</colorOpticalframeName>
            <depthOpticalframeName>camera_depth_optical_frame</depthOpticalframeName>
            <infrared1OpticalframeName>camera_left_ir_optical_frame</infrared1OpticalframeName>
            <infrared2OpticalframeName>camera_right_ir_optical_frame</infrared2OpticalframeName>
            <rangeMinDepth>0.2</rangeMinDepth>
            <rangeMaxDepth>10.0</rangeMaxDepth>
            <pointCloud>True</pointCloud>
            <pointCloudTopicName>depth/color/points</pointCloudTopicName>
            <pointCloudCutoff>0.25</pointCloudCutoff>
            <pointCloudCutoffMax>9.0</pointCloudCutoffMax>
        </plugin>
    </gazebo>
</robot>
